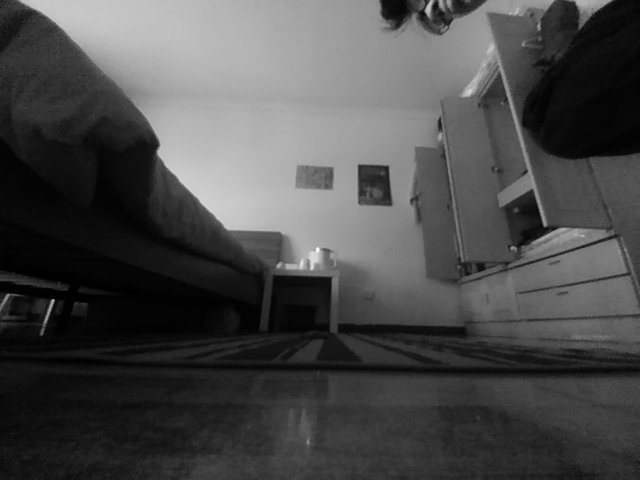carpet: (1, 330, 639, 375)
